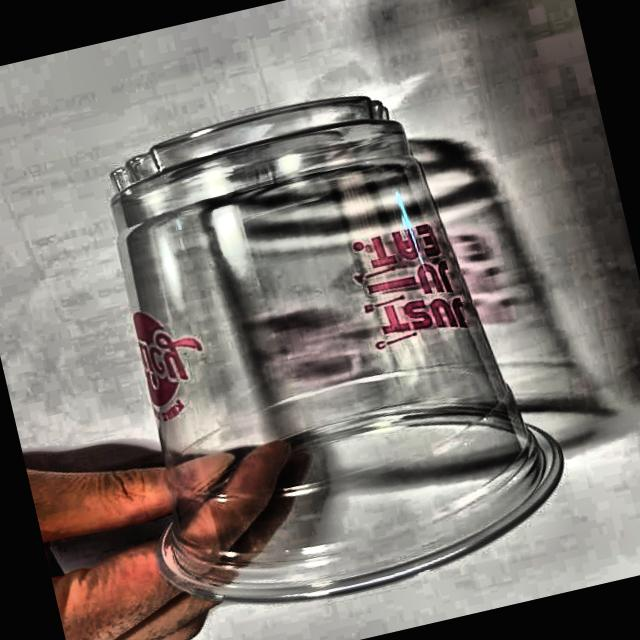plastic cup: (64, 61, 590, 638)
